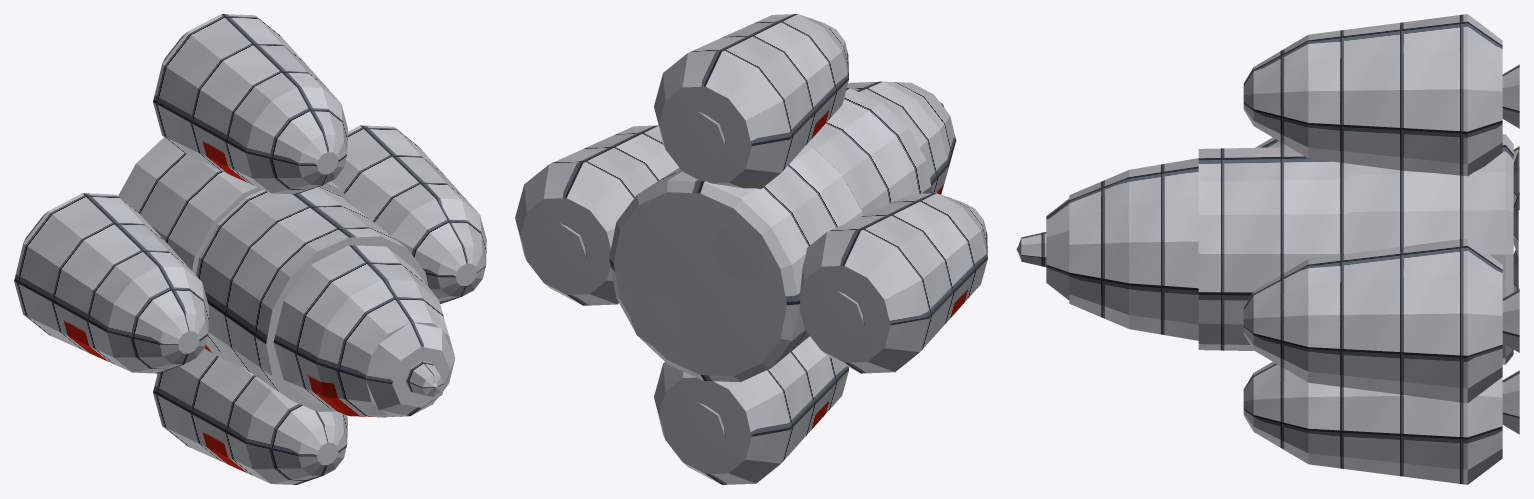
The model's file is MIN_PFL_Soyuz_Prism.obj.
3 renders of one model, left to right at view 1: azimuth 30°, elevation 25°; view 2: azimuth 150°, elevation 25°; view 3: azimuth 270°, elevation 25°, orthographic. The views are drawn at different scales.
Parts seen in each view (by area): view 1: MIN_PFL_Soyuz_Prism; view 2: MIN_PFL_Soyuz_Prism; view 3: MIN_PFL_Soyuz_Prism.
Boxes of the visible parts, <box> form: MIN_PFL_Soyuz_Prism: <box>14,14,486,484</box>; MIN_PFL_Soyuz_Prism: <box>515,14,987,484</box>; MIN_PFL_Soyuz_Prism: <box>1016,14,1519,484</box>.
Bounding box in the file's own units: 1 × 1 × 1.
1 material, 1 textured.
